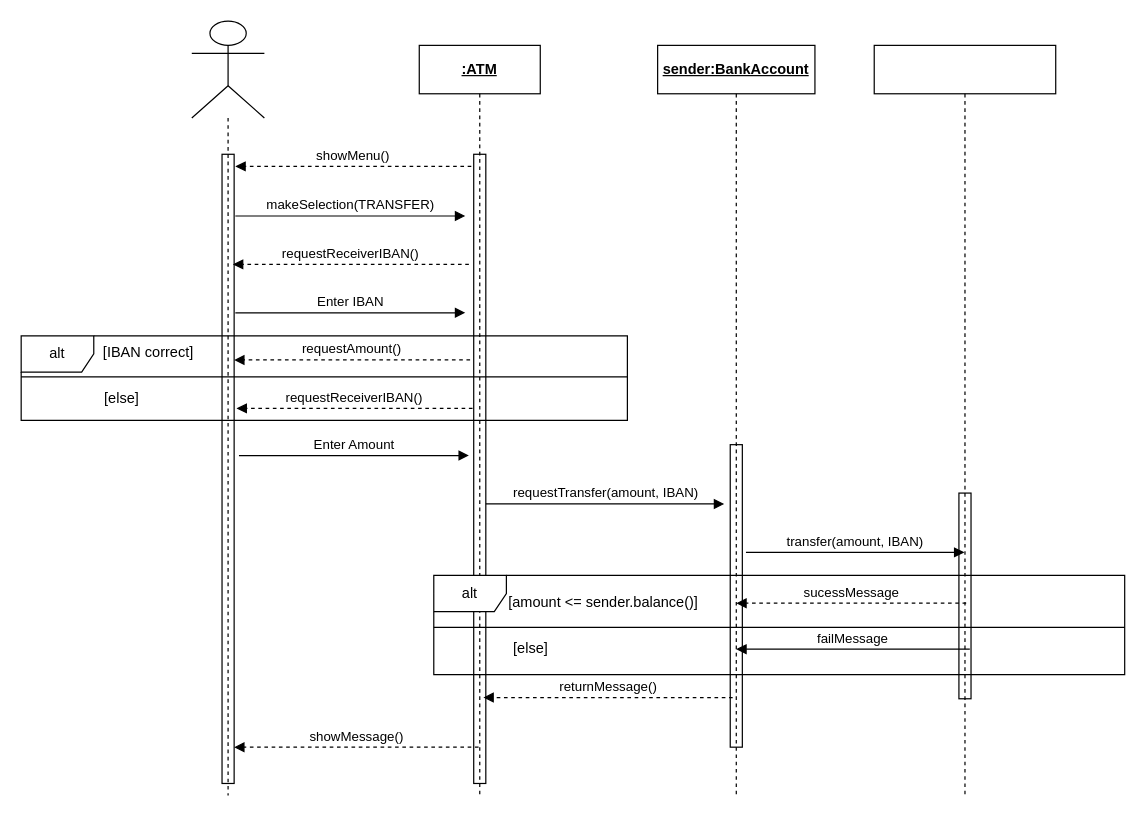
Some shapes in this 1146 by 817 pixel diagram are drawn without their labels. The shapes that lost their labels are listed below. From the top down, each one's box as (x1, y1, x2, y2) in pixels, then its label:
(191, 20, 264, 796): Sender
(873, 44, 1056, 794): receiver:BankAccount
